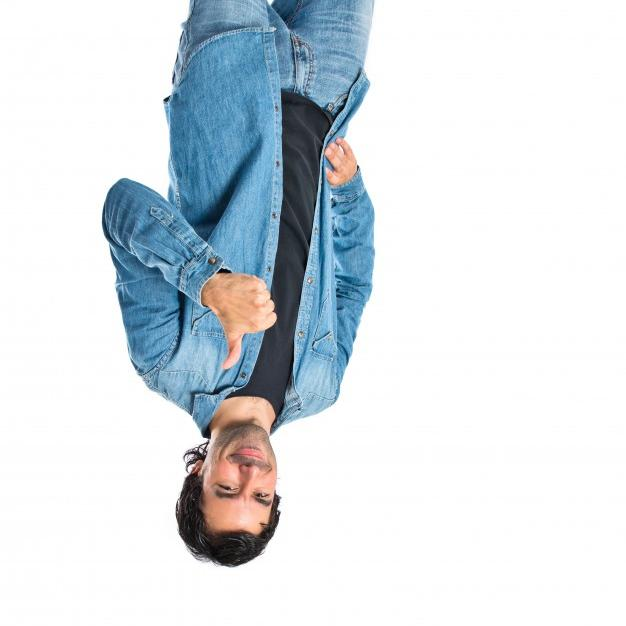thumbsdown: (222, 276, 277, 369)
